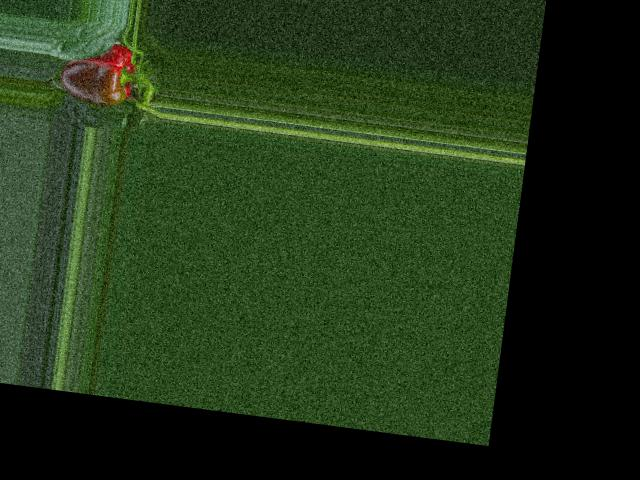bell_pepper: (51, 34, 147, 118)
